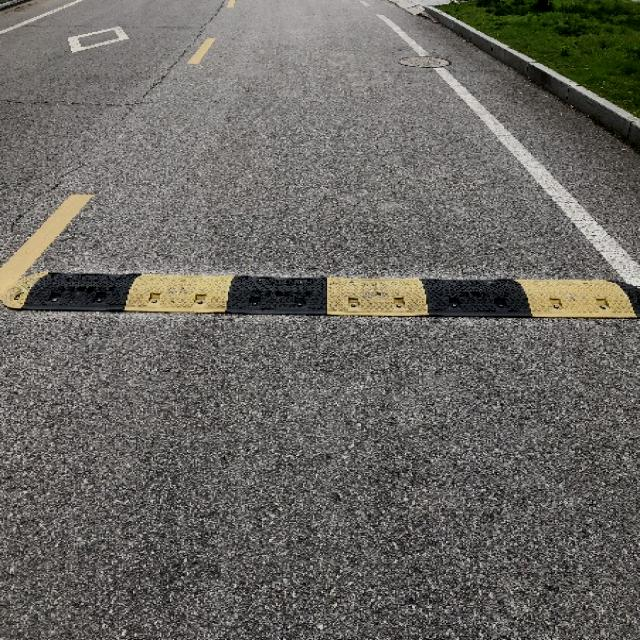Speed Bump: (7, 264, 640, 326)
